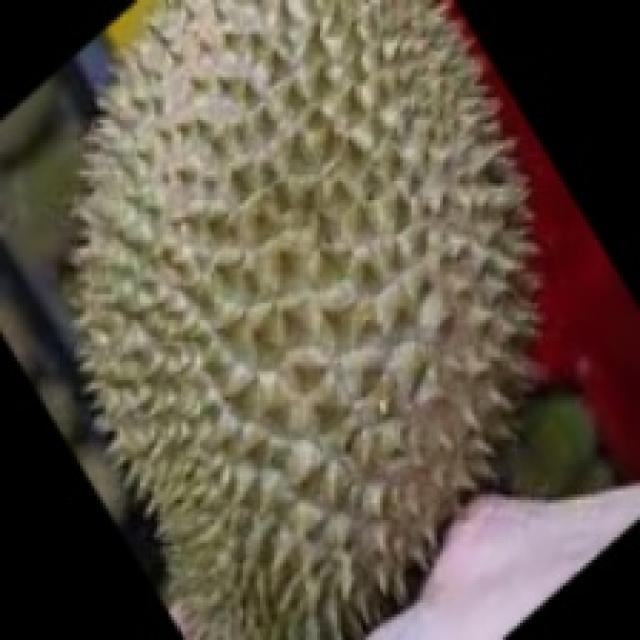d2: (79, 4, 524, 620)
